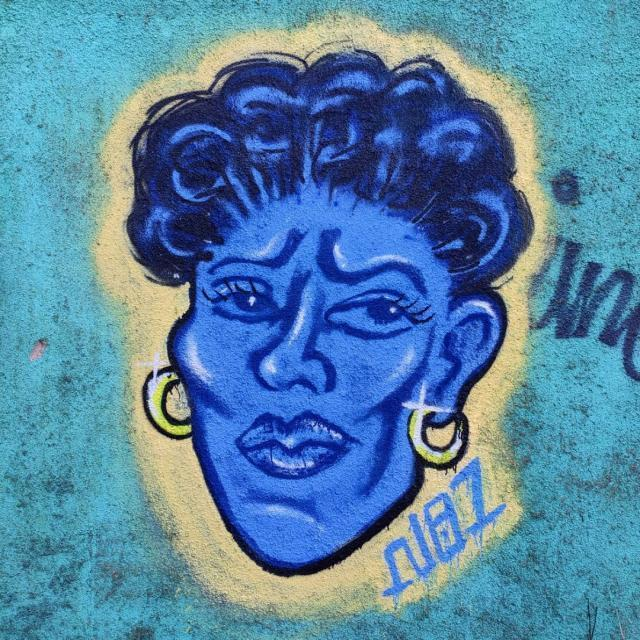nonspitting: (538, 168, 640, 383), (385, 456, 507, 596)
spitting: (130, 34, 532, 580)
